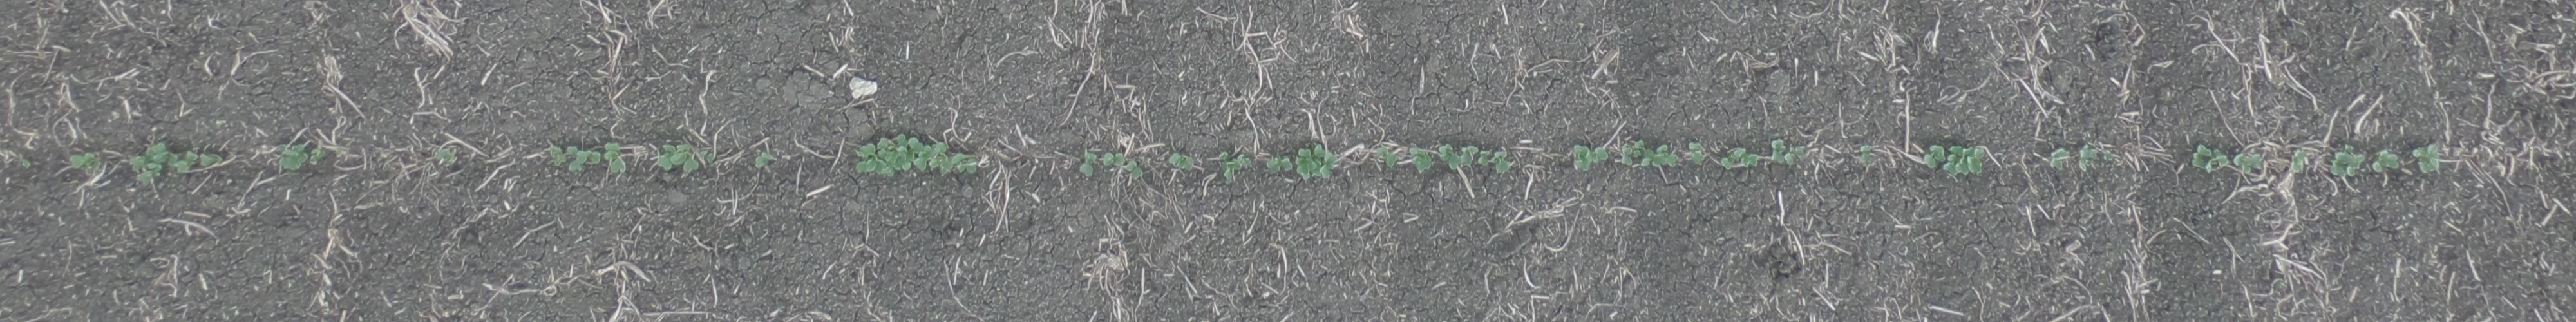plant: (877, 135, 953, 177), (1924, 143, 1986, 177), (128, 141, 171, 186), (1620, 140, 1679, 168), (655, 141, 700, 172), (1439, 145, 1490, 171), (2192, 143, 2229, 172), (176, 151, 223, 174), (1769, 138, 1805, 168), (2330, 146, 2361, 179), (1718, 148, 1759, 171), (274, 143, 309, 169), (567, 148, 601, 174), (1219, 153, 1250, 181), (2413, 143, 2441, 174), (1314, 143, 1336, 179), (1577, 145, 1608, 169), (856, 141, 877, 176), (2233, 149, 2264, 172), (605, 143, 626, 174), (2374, 149, 2400, 174), (1410, 146, 1433, 172), (67, 153, 104, 169), (953, 151, 977, 174), (1168, 153, 1196, 172), (1296, 146, 1313, 179), (1686, 140, 1707, 164), (1375, 146, 1398, 168), (1267, 156, 1293, 174), (2078, 146, 2096, 172), (1493, 149, 1511, 174), (2049, 148, 2068, 169), (434, 146, 457, 164), (2290, 149, 2307, 174), (1081, 153, 1097, 176), (1102, 153, 1125, 168), (1125, 161, 1143, 179), (549, 145, 563, 166), (1858, 143, 1873, 164), (754, 153, 772, 169), (2100, 149, 2116, 164), (16, 156, 33, 169), (700, 149, 716, 161)
